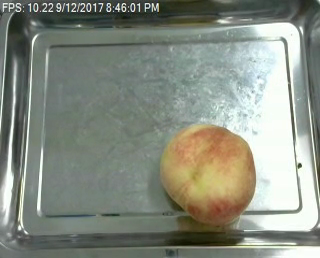Peach: (159, 123, 256, 225)
